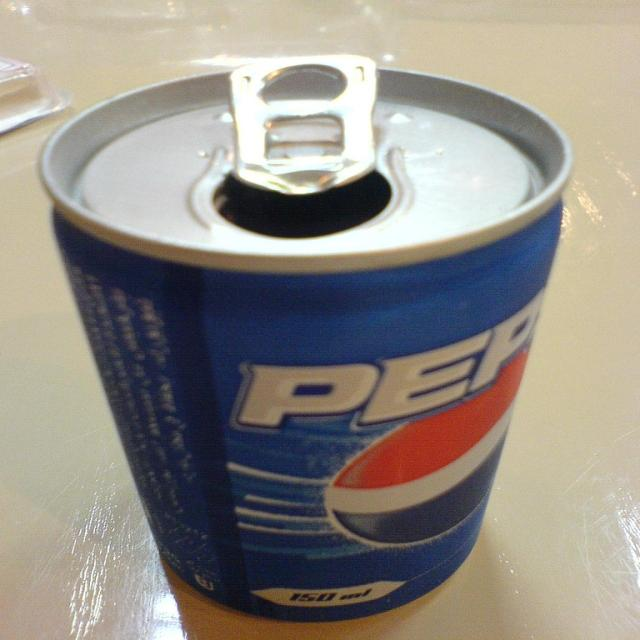pepsi: (320, 352, 530, 550)
